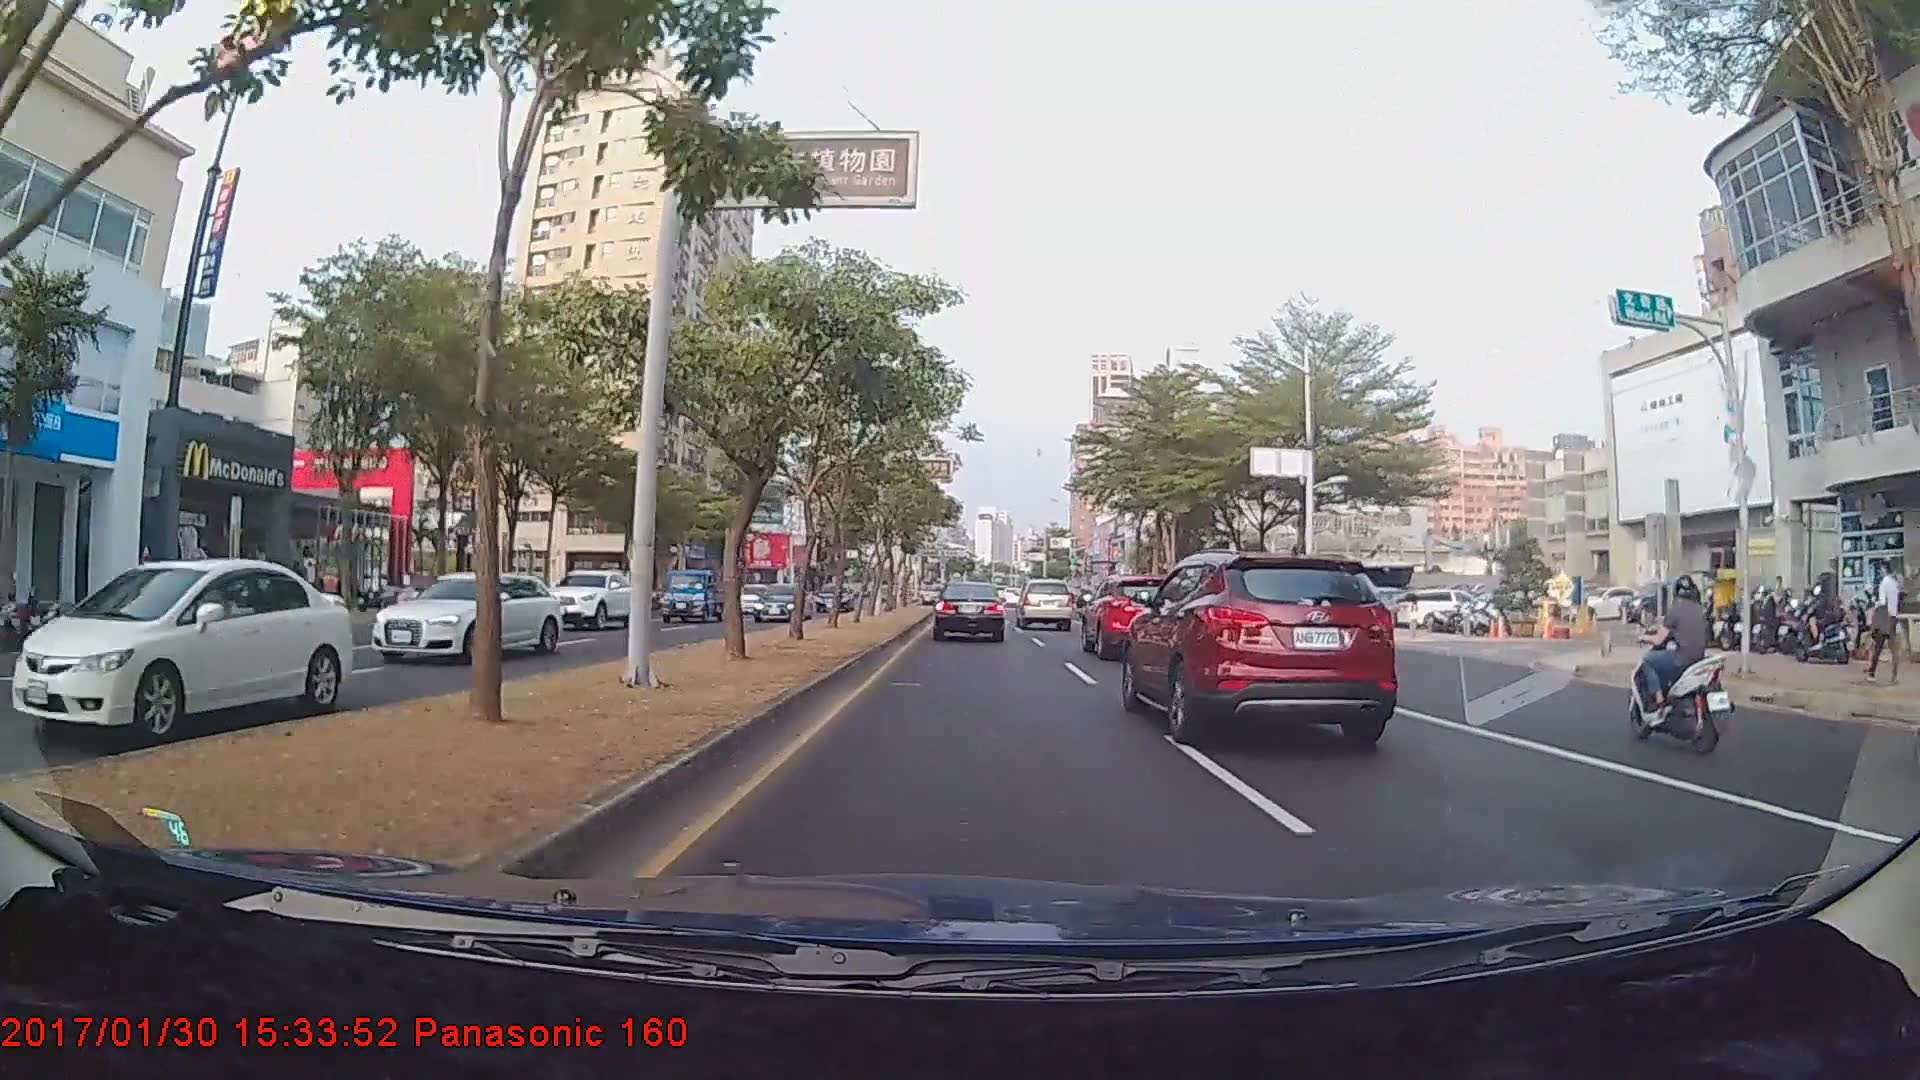pedestrian: (1869, 559, 1901, 681)
rider: (1613, 569, 1734, 754)
vehicle: (11, 559, 355, 740), (1130, 552, 1390, 738), (358, 572, 557, 664), (1081, 574, 1206, 660), (535, 568, 641, 628), (933, 580, 1005, 643), (662, 566, 727, 623), (1015, 578, 1073, 630), (753, 583, 810, 620), (813, 579, 855, 611)
